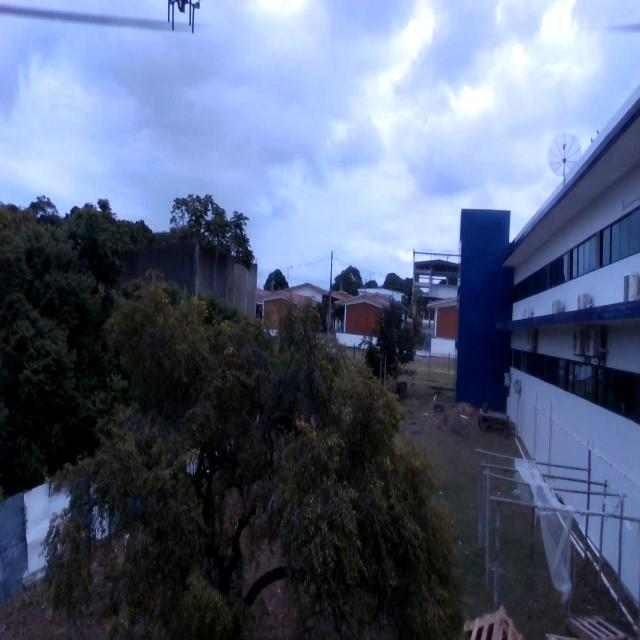-uav-: (162, 0, 208, 40)
